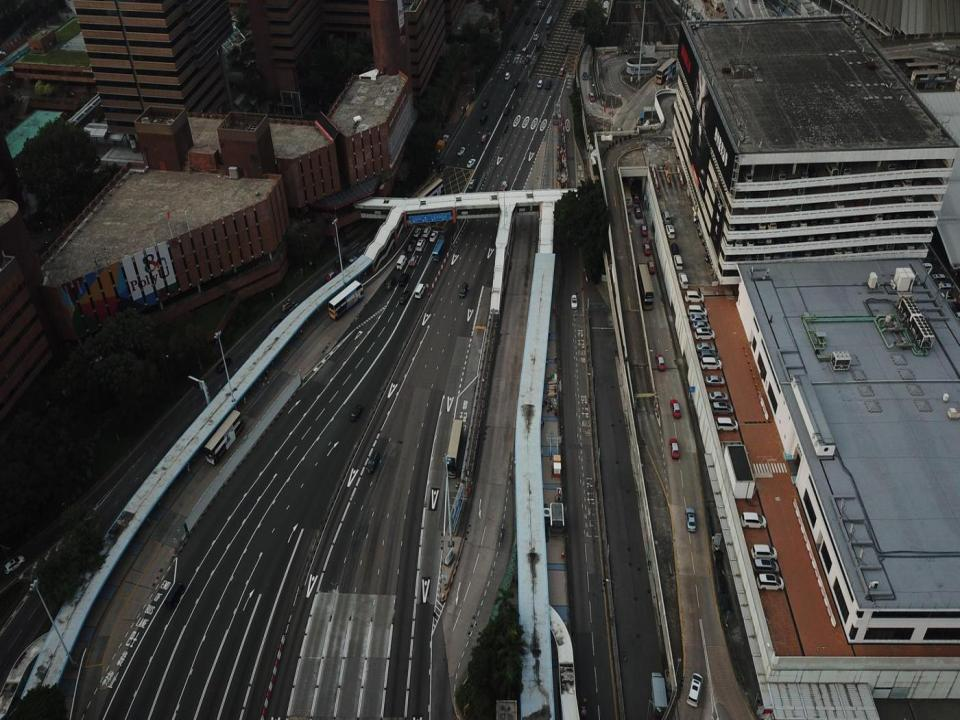bus: (205, 410, 246, 464), (329, 280, 364, 320), (445, 418, 464, 480), (637, 263, 654, 311), (416, 177, 444, 202), (656, 58, 676, 85), (620, 174, 632, 213), (432, 238, 446, 262), (545, 16, 553, 28), (536, 41, 542, 50)
car: (685, 506, 696, 532), (708, 390, 728, 403), (668, 438, 680, 458), (705, 374, 725, 386), (919, 172, 933, 189), (913, 154, 926, 172), (670, 398, 682, 417), (215, 358, 231, 372), (900, 188, 913, 205), (704, 251, 722, 263), (696, 342, 715, 352), (692, 320, 711, 330), (655, 354, 666, 371), (876, 176, 889, 190), (806, 164, 817, 180), (740, 188, 751, 204), (689, 314, 708, 323), (767, 248, 780, 261), (350, 405, 362, 419), (888, 176, 900, 189), (399, 290, 410, 303), (751, 188, 762, 201), (743, 236, 754, 249), (746, 218, 756, 232), (796, 216, 806, 230), (743, 169, 752, 184), (325, 270, 339, 279), (646, 260, 655, 274), (738, 218, 747, 232), (642, 241, 650, 256), (408, 254, 418, 266), (671, 241, 678, 254), (466, 158, 475, 168), (500, 180, 508, 190), (456, 147, 466, 155), (640, 223, 646, 236), (634, 207, 641, 218), (430, 231, 437, 242), (437, 162, 444, 172), (481, 132, 488, 142), (634, 192, 639, 205), (588, 92, 594, 102), (503, 107, 510, 115), (414, 228, 420, 236), (582, 72, 588, 80), (559, 67, 564, 76), (562, 43, 567, 52), (533, 32, 539, 39), (524, 17, 530, 24), (533, 18, 539, 25), (616, 127, 622, 134), (483, 99, 488, 107), (540, 4, 545, 9)
truck: (650, 672, 669, 717)
van: (686, 673, 703, 707), (749, 559, 779, 577), (756, 573, 783, 591), (750, 544, 777, 562), (740, 511, 766, 529), (5, 554, 24, 574), (714, 417, 738, 432), (711, 400, 733, 416), (366, 450, 379, 475), (700, 356, 722, 370), (878, 158, 896, 174), (698, 349, 720, 362), (684, 290, 705, 303), (825, 160, 839, 179), (694, 327, 714, 340), (687, 304, 707, 317), (773, 162, 786, 182), (836, 160, 851, 177), (709, 263, 728, 276), (730, 232, 744, 249), (855, 176, 868, 194), (869, 206, 883, 222), (902, 154, 915, 170), (723, 217, 735, 234), (792, 182, 805, 197), (796, 164, 808, 180), (722, 233, 734, 249), (677, 271, 688, 288), (899, 174, 912, 188), (766, 216, 777, 232), (270, 319, 283, 332), (831, 196, 844, 209), (786, 218, 799, 231), (799, 245, 812, 258), (281, 300, 295, 312), (335, 254, 347, 268), (754, 217, 766, 231), (806, 214, 818, 228), (902, 238, 914, 252), (757, 250, 771, 262), (414, 283, 425, 298), (396, 254, 407, 269), (673, 254, 683, 270), (780, 247, 792, 260), (754, 232, 764, 247), (666, 223, 675, 239), (459, 281, 468, 297), (908, 176, 919, 189), (810, 245, 821, 258), (386, 276, 396, 290), (662, 209, 671, 224), (398, 273, 410, 284), (570, 293, 578, 309), (416, 238, 425, 252), (95, 110, 105, 122), (407, 240, 416, 252), (349, 255, 359, 264), (468, 178, 476, 189), (423, 227, 431, 236), (480, 114, 487, 124), (544, 80, 552, 88), (537, 78, 542, 88), (513, 80, 520, 87), (505, 72, 511, 80), (511, 42, 517, 49), (522, 47, 527, 54)
